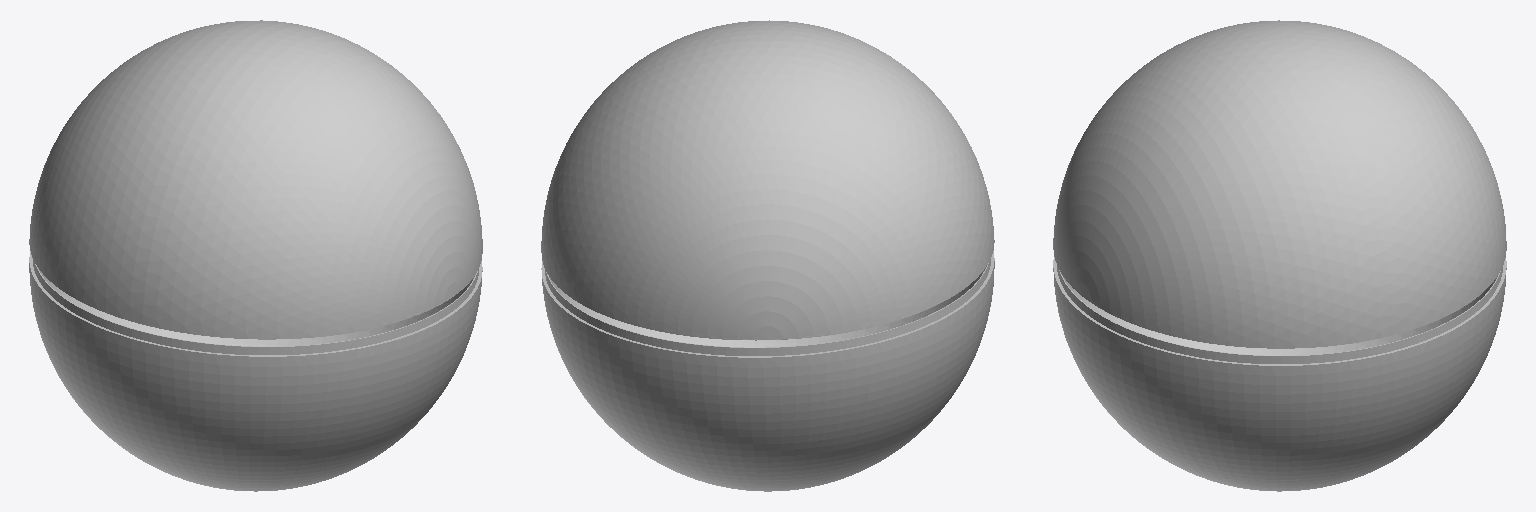
The robot description file, URDF, robot "outer_sphere":
<?xml version="1.0"?>
<!-- created with Phobos 1.0.1 "Capricious Choutengan" -->
  <robot name="outer_sphere">

    <link name="outer_sphere">
      <inertial>
        <origin xyz="0 0 -0.28206" rpy="0 0 0"/>
        <mass value="0.4"/>
        <inertia ixx="0.38672" ixy="0.00039" ixz="0" iyy="0.38672" iyz="0" izz="0.39023"/>
      </inertial>
      <visual name="node2">
        <origin xyz="0 0 -0.38706" rpy="1.5708 0 0"/>
        <geometry>
          <mesh filename="../meshes/dae/Part__Feature074.dae" scale="10.0 10.0 10.0"/>
        </geometry>
        <material name="Part__Feature074"/>
      </visual>
      <visual name="node3">
        <origin xyz="0 0 -0.17706" rpy="1.5708 0 0"/>
        <geometry>
          <mesh filename="../meshes/dae/Part__Feature075.dae" scale="10.0 10.0 10.0"/>
        </geometry>
        <material name="Part__Feature075"/>
      </visual>
      <collision name="node2.000">
        <origin xyz="0 0 -0.38706" rpy="1.5708 0 0"/>
        <geometry>
          <mesh filename="../meshes/dae/Part__Feature074.001.dae" scale="1.0 1.0 1.0"/>
        </geometry>
      </collision>
      <collision name="node3.000">
        <origin xyz="0 0 -0.35706" rpy="1.5708 0 0"/>
        <geometry>
          <mesh filename="../meshes/dae/Part__Feature075.001.dae" scale="1.0 1.0 1.0"/>
        </geometry>
      </collision>
    </link>

    <material name="Part__Feature074">
      <color rgba="0.8 0.8 0.8 1.0"/>
    </material>

    <material name="Part__Feature075">
      <color rgba="0.8 0.8 0.8 1.0"/>
    </material>

  </robot>

--- What the picture shows (computed from the rendered views, not written in the file) ---
Views: 3 orthographic renders of the robot side by side, from view 1: azimuth 30°, elevation 25°; view 2: azimuth 150°, elevation 25°; view 3: azimuth 270°, elevation 25°.
Model outer_sphere with 1 links and 0 joints (none), rooted at outer_sphere, posed all joints at 0.
Links seen in each view (by area): view 1: outer_sphere; view 2: outer_sphere; view 3: outer_sphere.
Link boxes in pixels (x1,y1,x2,y2): outer_sphere: [29, 20, 482, 491]; outer_sphere: [541, 20, 994, 491]; outer_sphere: [1053, 20, 1506, 491].
Bounding box of the posed robot: 5 × 5 × 5.22 m (x, y, z).
2 mesh visuals loaded from 2 distinct referenced files (2 Collada DAE).